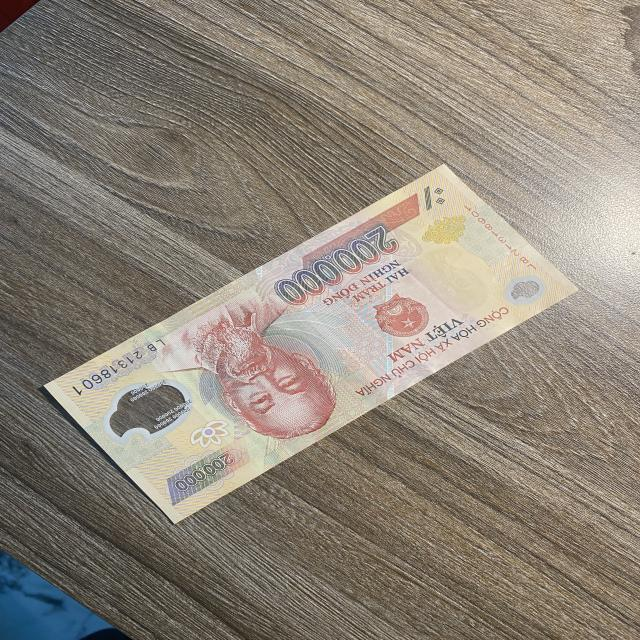200 000 VND: (44, 162, 581, 526)
